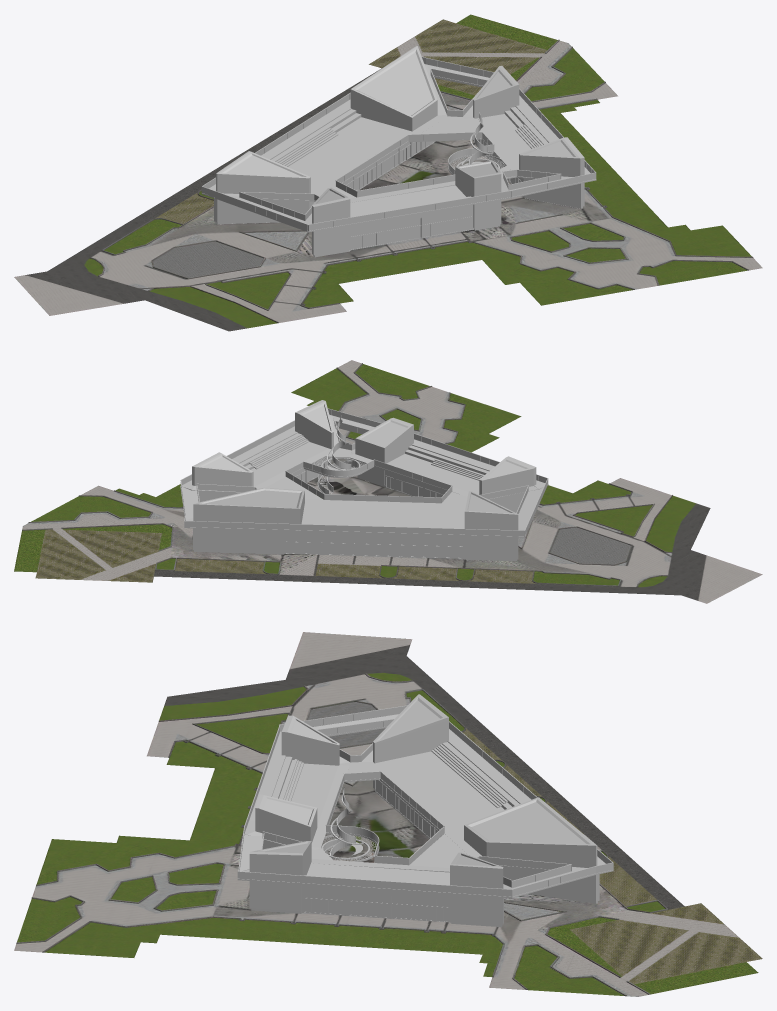
3 views of the same model, one above another, from view 1: azimuth 30°, elevation 25°; view 2: azimuth 150°, elevation 25°; view 3: azimuth 270°, elevation 25° (orthographic). The views are drawn at different scales.
Parts seen in each view (by area): view 1: ter, bud; view 2: ter, bud; view 3: ter, bud.
Boxes of the visible parts, bbox=[...] form: ter: bbox=[14, 14, 762, 331]; bud: bbox=[201, 46, 596, 257]; ter: bbox=[14, 360, 762, 603]; bud: bbox=[180, 400, 548, 561]; ter: bbox=[14, 632, 762, 996]; bud: bbox=[237, 694, 613, 927].
Bounding box in the file's own units: 120 × 15.09 × 104.
